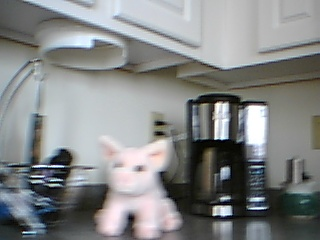piggy: (92, 134, 184, 239)
